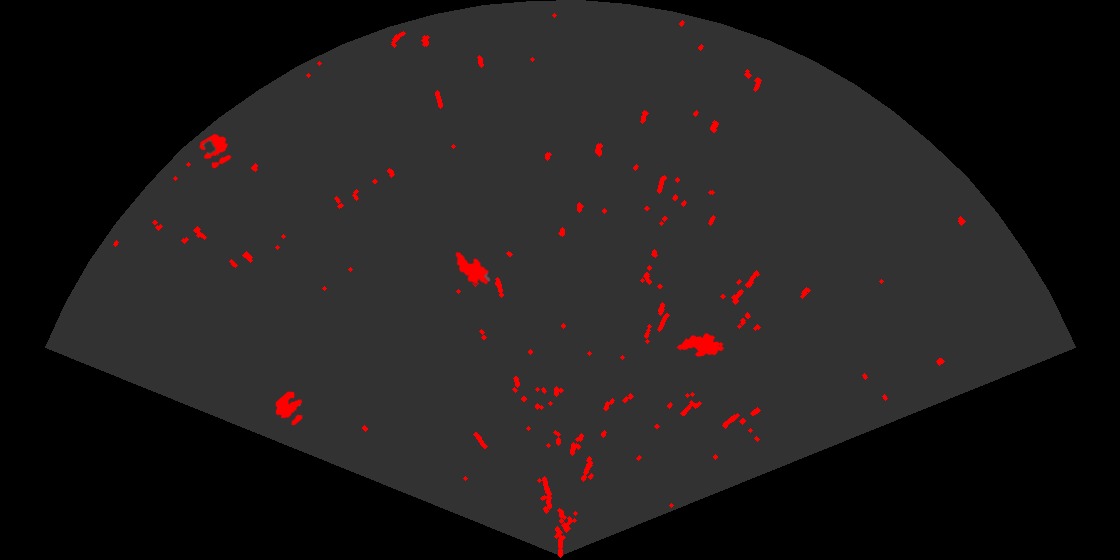AUV: (454, 250, 492, 286), (675, 332, 726, 358)
ball: (198, 132, 233, 170), (274, 390, 304, 427)
